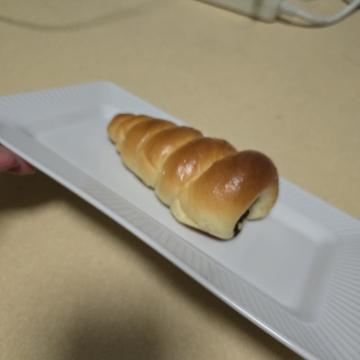cream horn: (94, 69, 250, 269)
